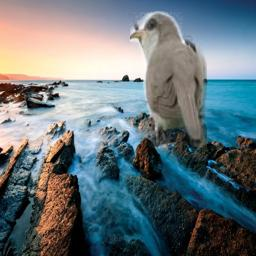Cuckoo: (130, 11, 207, 148)
